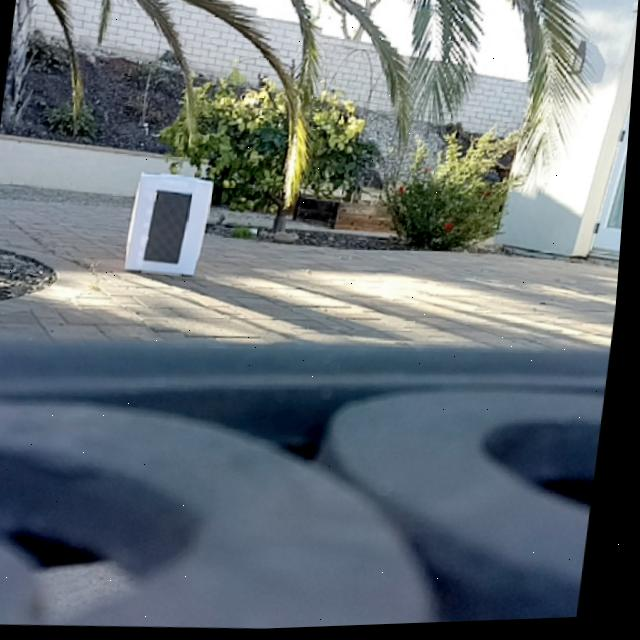led: (147, 188, 197, 270)
